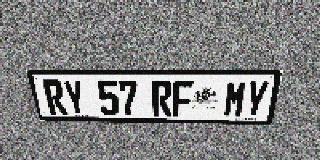5: (97, 80, 120, 116)
7: (117, 80, 139, 116)
F: (172, 80, 193, 116)
M: (223, 81, 248, 117)
R: (42, 80, 68, 115), (152, 80, 172, 116)
Y: (243, 81, 270, 117), (62, 80, 87, 115)
